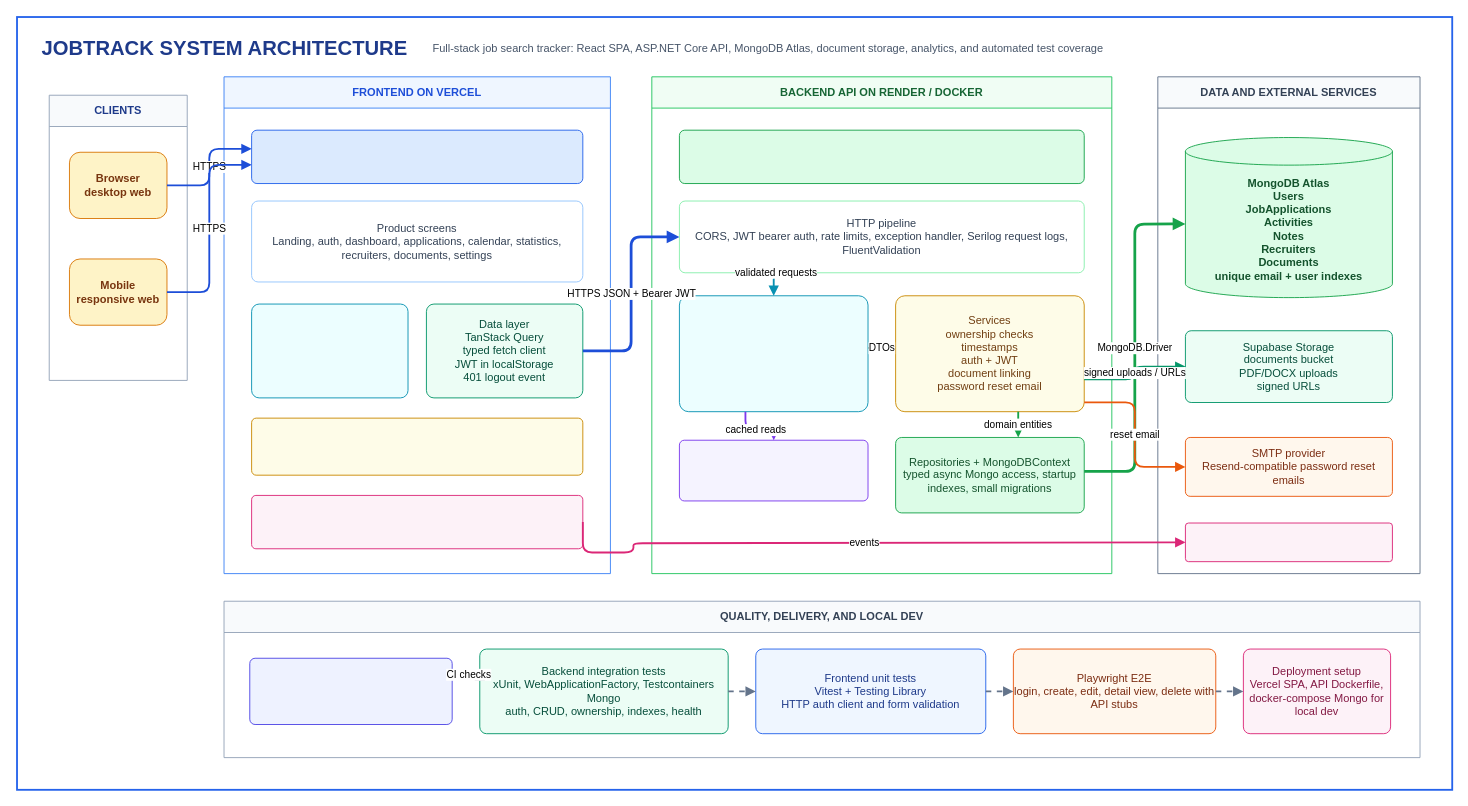
Image size: 1468x806. Some labels were removed from this diagram. Here are the shapes that lost their labels. From the top down, the centre of each, then its label:
At (417,156): "React 18 + Vite SPA Vercel routing and security headers".
At (881,156): "ASP.NET Core 10 Web API OpenAPI / Swagger, health endpoint, DI composition root".
At (329,350): "App shell React Router AuthProvider ThemeProvider ErrorBoundary".
At (773,353): "Controllers Auth JobApplication Activity Note Recruiter Documents".
At (417,446): "Forms and validation React Hook Form + Zod, field errors, toast feedback".
At (773,470): "In-memory cache per-user lists with invalidation after mutations".
At (417,521): "Client analytics PostHog identify, page events, product events".
At (1288,542): "PostHog optional product analytics".
At (350,690): "GitHub Actions CI restore, build, backend test".
